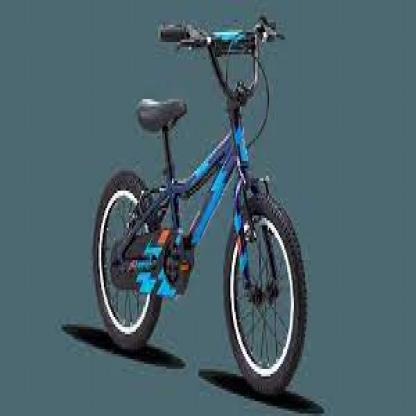Bike: (92, 16, 306, 393)
